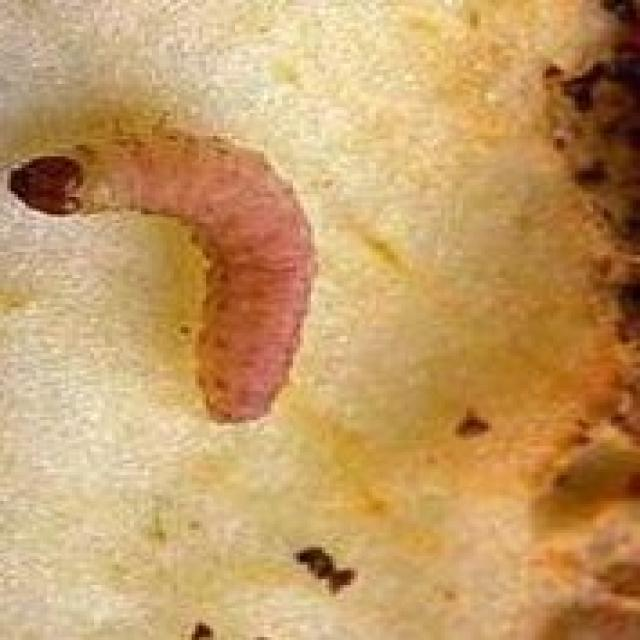peach borer: (3, 111, 332, 435)
